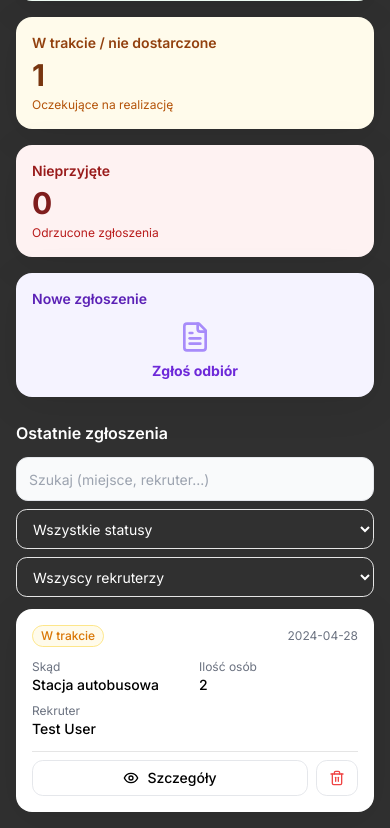
Test: OdbiorView › clicking delete button opens confirmation dialog
(page scrolled)
Click the button named "Usuń" at (337, 778), box [316,760,358,796]
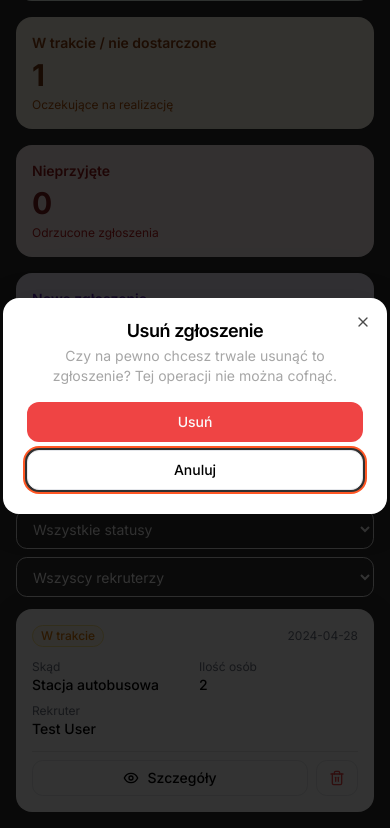
Check: the heading "Usuń zgłoszenie" is shown, box [127,320,263,341]
Check: the text "Czy na pewno chcesz trwale usunąć" is shown, box [53,347,337,384]
